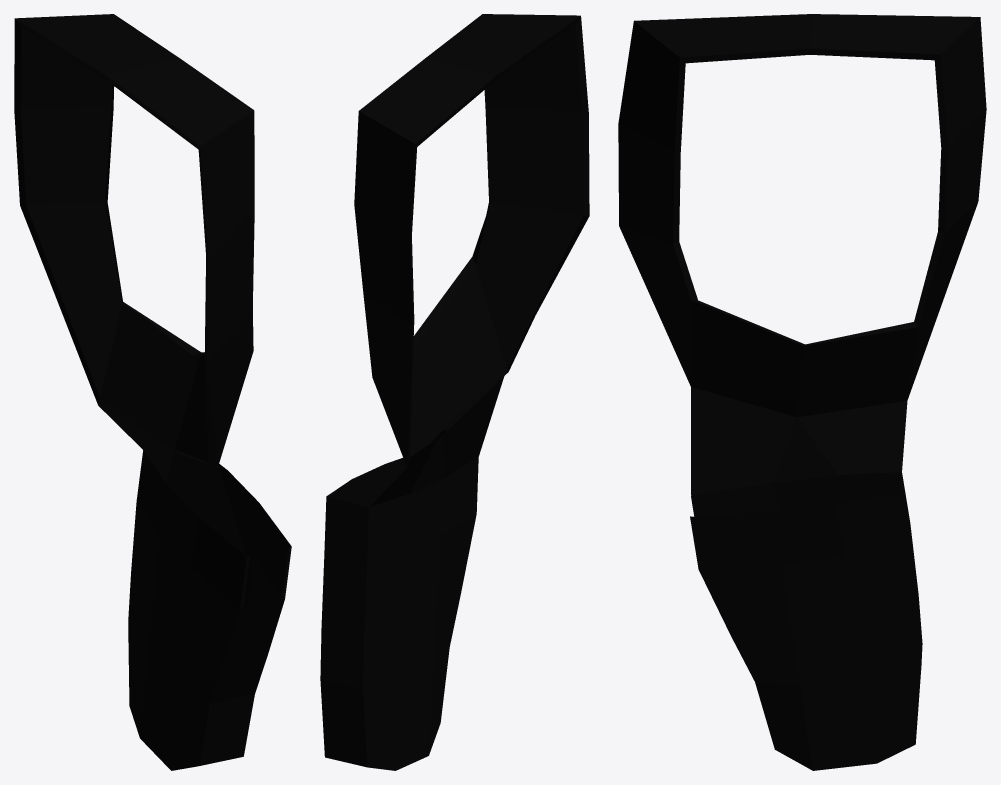
The model's file is Weapon Holster Left Arm.fbx.
3 views of the same model, side by side, from view 1: azimuth 30°, elevation 25°; view 2: azimuth 150°, elevation 25°; view 3: azimuth 270°, elevation 25° (orthographic). The views are drawn at different scales.
Visible parts, largest first — view 1: Dual Weapon Holster Left Arm.001; view 2: Dual Weapon Holster Left Arm.001; view 3: Dual Weapon Holster Left Arm.001.
Part boxes in pixels (x1,y1,x2,y2): Dual Weapon Holster Left Arm.001: (14,14,291,770); Dual Weapon Holster Left Arm.001: (320,14,589,770); Dual Weapon Holster Left Arm.001: (618,14,986,770).
Bounding box in the file's own units: 0.0878 × 0.4304 × 0.2063.
